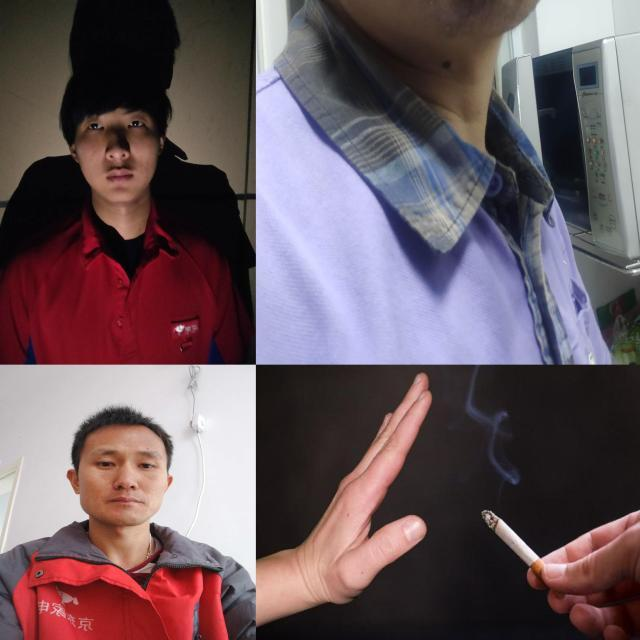smoking: (482, 510, 566, 600)
